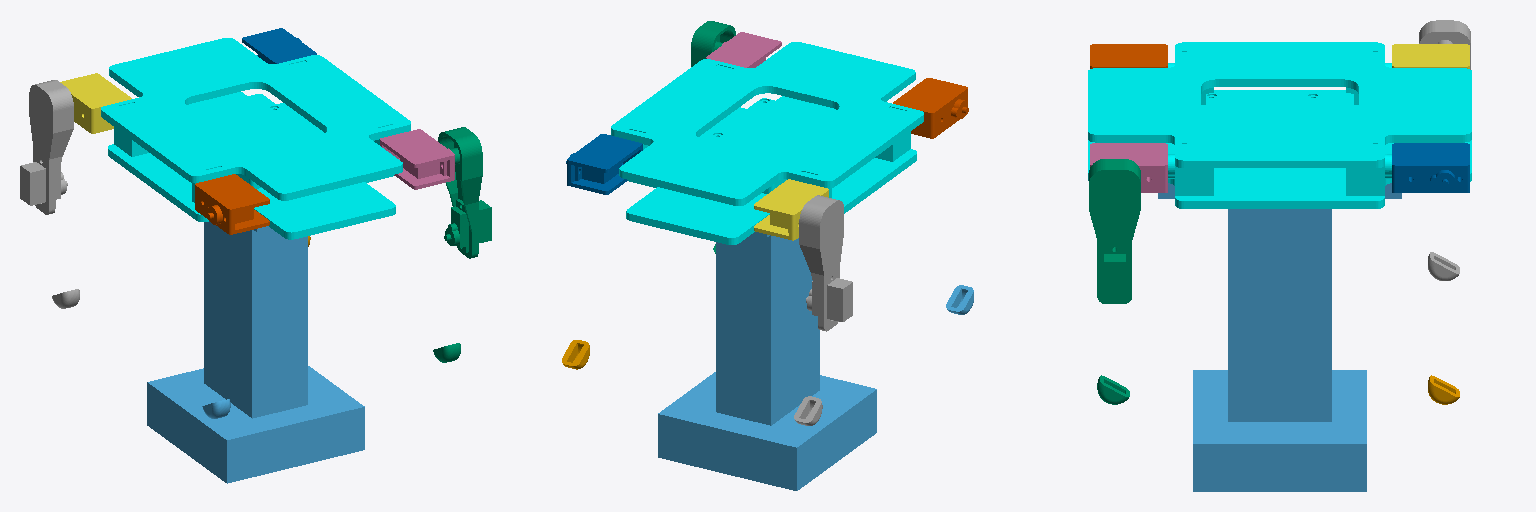
--- What the picture shows (computed from the rendered views, not written in the file) ---
3 views of the same robot in one strip: view 1: azimuth 30°, elevation 25°; view 2: azimuth 150°, elevation 25°; view 3: azimuth 270°, elevation 25° (orthographic).
Model dreamwalker_dummy with 23 links and 22 joints (12 revolute, 10 fixed), rooted at world, posed every joint at zero.
Visible links, largest first — view 1: main_body, support_element, link_femur1, link_femur4, link_shoulder3, link_shoulder4, link_shoulder1, link_shoulder2; view 2: main_body, support_element, link_femur1, link_shoulder2, link_shoulder3, link_shoulder1, link_shoulder4, link_femur4, link_foot1, link_foot3, link_foot2; view 3: main_body, support_element, link_femur4, link_shoulder2, link_shoulder4, link_shoulder1, link_shoulder3, link_femur1, link_foot4, link_foot2, link_foot1.
Boxes of the visible links, <box> form: main_body: <box>101,38,410,239</box>; support_element: <box>147,221,364,483</box>; link_femur1: <box>20,80,73,214</box>; link_femur4: <box>438,127,491,258</box>; link_shoulder3: <box>195,174,269,234</box>; link_shoulder4: <box>380,129,454,189</box>; link_shoulder1: <box>60,73,131,133</box>; link_shoulder2: <box>242,28,316,63</box>; main_body: <box>611,42,923,244</box>; support_element: <box>658,232,876,490</box>; link_femur1: <box>799,195,852,331</box>; link_shoulder2: <box>566,134,642,194</box>; link_shoulder3: <box>893,78,968,138</box>; link_shoulder1: <box>754,179,828,240</box>; link_shoulder4: <box>706,32,781,67</box>; link_femur4: <box>691,21,735,66</box>; link_foot1: <box>794,396,822,425</box>; link_foot3: <box>946,285,973,314</box>; link_foot2: <box>562,340,589,369</box>; main_body: <box>1088,42,1471,208</box>; support_element: <box>1158,183,1401,491</box>; link_femur4: <box>1089,159,1140,303</box>; link_shoulder2: <box>1392,143,1469,192</box>; link_shoulder4: <box>1090,143,1167,192</box>; link_shoulder1: <box>1392,44,1469,68</box>; link_shoulder3: <box>1090,44,1167,68</box>; link_femur1: <box>1419,20,1470,69</box>; link_foot4: <box>1097,375,1129,404</box>; link_foot2: <box>1428,375,1459,404</box>; link_foot1: <box>1428,252,1459,280</box>.
Size in the robot's own frame: 0.225 by 0.22 by 0.227 metres.
12 mesh visuals loaded from 15 distinct referenced files (7 binary STL, 2 Collada DAE); not drawn: 10 (reference not matched to a file when rendering).

robot.urdf — dreamwalker_dummy:
<?xml version="1.0" ?>
<robot name="dreamwalker_dummy" xmlns:xacro="http://www.ros.org/wiki/xacro">


	<!-- WORLD LINK -->
	<link name="world"/>

  	<joint name="fixed" type="fixed">
    	<parent link="world"/>
    	<child link="support_element"/>
  	</joint>

  	<!-- SUPPORT ELEMENT -->

	<link name="support_element">
		
		<inertial>
			<mass value="0.8"/>
			<origin xyz="0 0 0.082" rpy="0 0 0"/>
			<inertia ixx="0.002858" ixy="0" ixz="0" iyy="0.002726" iyz="0" izz="0.0006479"/>
		</inertial>

		<collision name="collision_base">
			<origin xyz="0 0 0.095" rpy="0 0 0"/>
			<geometry>
				<box size="0.06 0.14 0.19"/>
			</geometry>
		</collision>

		<visual>
			<origin xyz="0 0 0" rpy="0 0 0"/>
			<geometry>
				<mesh filename="package://dreamwalker_description/meshes/support_test_element.dae" scale="0.001 0.001 0.001" />
			</geometry>
		</visual>

	</link>

	<joint name="dummy_joint" type="fixed">
		
		<origin xyz="0 0 0.19" rpy="0 0 0"/>
		<parent link="support_element"/>
		<child link="main_body"/>
	</joint>


	<!--### ROBOT BODY ### -->

	<link name="main_body">
		
		<inertial>
			<mass value="0.388"/>
			<origin xyz="0 0 0.0155" rpy="0 0 0"/>
			<inertia ixx="0.001096" ixy="0" ixz="0" iyy="0.0006744" iyz="0" izz="0.001658"/>
		</inertial>

		<collision name="collision_base">
			<origin xyz="0 0 0" rpy="0 0 0"/>
			<geometry>
				<mesh filename="package://dreamwalker_description/meshes/main_body_collision.stl" scale="0.001 0.001 0.001" />
			</geometry>
		</collision>

		<visual>
			<origin xyz="0 0 0" rpy="0 0 0"/>
			<geometry>
				<mesh filename="package://dreamwalker_description/meshes/main_body.stl" scale="0.001 0.001 0.001" />
			</geometry>
			<material name="Cyan">
  		        <color rgba="0 1.0 1.0 1.0"/>
  			</material>
		</visual>

	</link>

	<!--### SHOULDERS ### -->

	<link name="link_shoulder1">
		
		<inertial>
			<mass value="0.0198"/>
			<origin xyz="-0.008165 0.022472 0" rpy="0 0 0"/>
			<inertia ixx="0.000003218011" ixy="0.000000199995" ixz="0" iyy="0.000001946476" iyz="0" izz="0.000004027678"/>
		</inertial>

		<collision name="collision_base">
			<origin xyz="-0.007 0.0225 0" rpy="0 0 0"/>
			<geometry>
				<box size="0.034 0.045 0.0175"/>
			</geometry>
		</collision>

		<visual>
			<origin xyz="0 0 0" rpy="0 0 0"/>
			<geometry>
				<mesh filename="package://dreamwalker_description/meshes/link_shoulder1.stl" scale="0.001 0.001 0.001" />
			</geometry>
		</visual>

	</link>


	<link name="link_shoulder2">
		
		<inertial>
			<mass value="0.0198"/>
			<origin xyz="0.008165 0.022472 0" rpy="0 0 0"/>
			<inertia ixx="0.000003218011" ixy="-0.000000199995" ixz="0" iyy="0.000001946476" iyz="0" izz="0.000004027678"/>
		</inertial>

		<collision name="collision_base">
			<origin xyz="0.007 0.0225 0" rpy="0 0 0"/>
			<geometry>
				<box size="0.034 0.045 0.0175"/>
			</geometry>
		</collision>

		<visual>
			<origin xyz="0 0 0" rpy="0 0 0"/>
			<geometry>
				<mesh filename="package://dreamwalker_description/meshes/link_shoulder2.stl" scale="0.001 0.001 0.001" />
			</geometry>
		</visual>

	</link>


	<link name="link_shoulder3">
		
		<inertial>
			<mass value="0.0198"/>
			<origin xyz="-0.008165 -0.022472 0" rpy="0 0 0"/>
			<inertia ixx="0.000003218011" ixy="-0.000000199995" ixz="0" iyy="0.000001946476" iyz="0" izz="0.000004027678"/>
		</inertial>

		<collision name="collision_base">
			<origin xyz="-0.007 -0.0225 0" rpy="0 0 0"/>
			<geometry>
				<box size="0.034 0.045 0.0175"/>
			</geometry>
		</collision>

		<visual>
			<origin xyz="0 0 0" rpy="0 0 0"/>
			<geometry>
				<mesh filename="package://dreamwalker_description/meshes/link_shoulder3.stl" scale="0.001 0.001 0.001" />
			</geometry>
		</visual>

	</link>


	<link name="link_shoulder4">
		
		<inertial>
			<mass value="0.0198"/>
			<origin xyz="0.008165 -0.022472 0" rpy="0 0 0"/>
			<inertia ixx="0.000003218011" ixy="0.000000199995" ixz="0" iyy="0.000001946476" iyz="0" izz="0.000004027678"/>
		</inertial>

		<collision name="collision_base">
			<origin xyz="0.007 -0.0225 0" rpy="0 0 0"/>
			<geometry>
				<box size="0.034 0.045 0.0175"/>
			</geometry>
		</collision>

		<visual>
			<origin xyz="0 0 0" rpy="0 0 0"/>
			<geometry>
				<mesh filename="package://dreamwalker_description/meshes/link_shoulder4.stl" scale="0.001 0.001 0.001" />
			</geometry>
		</visual>

	</link>

	<!--### FEMURS ### -->

	<link name="link_femur1">
		
		<inertial>
			<mass value="0.0218"/>
			<origin xyz="-0.012278 0 -0.031262" rpy="0 0 0"/>
			<inertia ixx="0.00001388" ixy="0" ixz="-0.000000908897" iyy="0.00001369" iyz="0" izz="0.000001695609"/>
		</inertial>

		<collision name="collision_base">
			<origin xyz="-0.00725 0 -0.0275" rpy="0 0 0"/>
			<geometry>
				<box size="0.014 0.02 0.085"/>
			</geometry>
		</collision>

		<visual>
			<origin xyz="0 0 0" rpy="0 0 0"/>
			<geometry>
				<mesh filename="package://dreamwalker_description/meshes/link_femur1.stl" scale="0.001 0.001 0.001" />
			</geometry>
			<material name="black"/>
		</visual>

	</link>


	<link name="link_femur2">
		
		<inertial>
			<mass value="0.0218"/>
			<origin xyz="0.012278 0 -0.031262" rpy="0 0 0"/>
			<inertia ixx="0.00001388" ixy="0" ixz="0.000000908897" iyy="0.00001369" iyz="0" izz="0.000001695609"/>
		</inertial>

		<collision name="collision_base">
			<origin xyz="0.00725 0 -0.0275" rpy="0 0 0"/>
			<geometry>
				<box size="0.014 0.02 0.085"/>
			</geometry>
		</collision>

		<visual>
			<origin xyz="0 0 0" rpy="0 0 0"/>
			<geometry>
				<mesh filename="package://dreamwalker_description/meshes/link_femur2.stl" scale="0.001 0.001 0.001" />
			</geometry>
			<material name="black"/>
		</visual>

	</link>


	<link name="link_femur3">
		
		<inertial>
			<mass value="0.0218"/>
			<origin xyz="-0.012278 0 -0.031262" rpy="0 0 0"/>
			<inertia ixx="0.00001388" ixy="0" ixz="-0.000000908897" iyy="0.00001369" iyz="0" izz="0.000001695609"/>
		</inertial>

		<collision name="collision_base">
			<origin xyz="-0.00725 0 -0.0275" rpy="0 0 0"/>
			<geometry>
				<box size="0.014 0.02 0.085"/>
			</geometry>
		</collision>

		<visual>
			<origin xyz="0 0 0" rpy="0 0 0"/>
			<geometry>
				<mesh filename="package://dreamwalker_description/meshes/link_femur3.stl" scale="0.001 0.001 0.001" />
			</geometry>
			<material name="black"/>
		</visual>

	</link>


	<link name="link_femur4">
		
		<inertial>
			<mass value="0.0218"/>
			<origin xyz="0.012278 0 -0.031262" rpy="0 0 0"/>
			<inertia ixx="0.00001388" ixy="0" ixz="0.000000908897" iyy="0.00001369" iyz="0" izz="0.000001695609"/>
		</inertial>

		<collision name="collision_base">
			<origin xyz="0.00725 0 -0.0275" rpy="0 0 0"/>
			<geometry>
				<box size="0.014 0.02 0.085"/>
			</geometry>
		</collision>

		<visual>
			<origin xyz="0 0 0" rpy="0 0 0"/>
			<geometry>
				<mesh filename="package://dreamwalker_description/meshes/link_femur4.stl" scale="0.001 0.001 0.001" />
			</geometry>
			<material name="black"/>
		</visual>

	</link>


	<link name="link_tibia1">
		
		<inertial>
			<mass value="0.00730"/>
			<origin xyz="-0.0025 0.0009 -0.032102" rpy="0 0 0"/>
			<inertia ixx="0.0000050464" ixy="0" ixz="0" iyy="0.000004893134" iyz="0.00000009901" izz="0.00000018368"/>
		</inertial>

		<collision name="collision_base">
			<origin xyz="-0.0025 0 -0.033" rpy="0 0 0"/>
			<geometry>
				<box size="0.005 0.015 0.085"/>
			</geometry>
		</collision>

		<visual>
			<origin xyz="0 0 0" rpy="0 0 0"/>
			<geometry>
				<mesh filename="package://dreamwalker_description/meshes/link_forearm1.stl" scale="0.001 0.001 0.001" />
			</geometry>
		</visual>

	</link>


	<link name="link_tibia2">
		
		<inertial>
			<mass value="0.00730"/>
			<origin xyz="0.0025 0.0009 -0.032102" rpy="0 0 0"/>
			<inertia ixx="0.0000050464" ixy="0" ixz="0" iyy="0.000004893134" iyz="0.00000009901" izz="0.00000018368"/>
		</inertial>

		<collision name="collision_base">
			<origin xyz="0.0025 0 -0.033" rpy="0 0 0"/>
			<geometry>
				<box size="0.005 0.015 0.085"/>
			</geometry>
		</collision>

		<visual>
			<origin xyz="0 0 0" rpy="0 0 0"/>
			<geometry>
				<mesh filename="package://dreamwalker_description/meshes/link_forearm2.stl" scale="0.001 0.001 0.001" />
			</geometry>
		</visual>

	</link>


	<link name="link_tibia3">
		
		<inertial>
			<mass value="0.00730"/>
			<origin xyz="-0.0025 0.0009 -0.032102" rpy="0 0 0"/>
			<inertia ixx="0.0000050464" ixy="0" ixz="0" iyy="0.000004893134" iyz="0.00000009901" izz="0.00000018368"/>
		</inertial>

		<collision name="collision_base">
			<origin xyz="-0.0025 0 -0.033" rpy="0 0 0"/>
			<geometry>
				<box size="0.005 0.015 0.085"/>
			</geometry>
		</collision>

		<visual>
			<origin xyz="0 0 0" rpy="0 0 0"/>
			<geometry>
				<mesh filename="package://dreamwalker_description/meshes/link_forearm1.stl" scale="0.001 0.001 0.001" />
			</geometry>
		</visual>

	</link>


	<link name="link_tibia4">
		
		<inertial>
			<mass value="0.00730"/>
			<origin xyz="0.0025 0.0009 -0.032102" rpy="0 0 0"/>
			<inertia ixx="0.0000050464" ixy="0" ixz="0" iyy="0.000004893134" iyz="0.00000009901" izz="0.00000018368"/>
		</inertial>

		<collision name="collision_base">
			<origin xyz="0.0025 0 -0.033" rpy="0 0 0"/>
			<geometry>
				<box size="0.005 0.015 0.085"/>
			</geometry>
		</collision>

		<visual>
			<origin xyz="0 0 0" rpy="0 0 0"/>
			<geometry>
				<mesh filename="package://dreamwalker_description/meshes/link_forearm2.stl" scale="0.001 0.001 0.001" />
			</geometry>
		</visual>

	</link>


	<link name="link_foot1">
		
		<inertial>
			<mass value="0.0013"/>
			<origin xyz="0 0 -0.004355" rpy="0 0 0"/>
			<inertia ixx="0.000000043185" ixy="0" ixz="0" iyy="0.000000029326" iyz="-0.000000074876" izz="0.000000054089"/>
		</inertial>

		<collision name="collision_base">
			<origin xyz="0 0 0" rpy="0 0 0"/>
			<geometry>
				<mesh filename="package://dreamwalker_description/meshes/link_foot.dae" scale="0.001 0.001 0.001" />
			</geometry>
			<!-- <contact_coefficient mu="100.0" mu2="100.0" k_p="10000.0"  k_d="100.0" /> -->
		</collision>

		<visual>
			<origin xyz="0 0 0" rpy="0 0 0"/>
			<geometry>
				<mesh filename="package://dreamwalker_description/meshes/link_foot.dae" scale="0.001 0.001 0.001" />
			</geometry>
			<material name="black"/>
		</visual>

	</link>


	<link name="link_foot2">
		
		<inertial>
			<mass value="0.0013"/>
			<origin xyz="0 0 -0.004355" rpy="0 0 0"/>
			<inertia ixx="0.000000043185" ixy="0" ixz="0" iyy="0.000000029326" iyz="-0.000000074876" izz="0.000000054089"/>
		</inertial>

		<collision name="collision_base">
			<origin xyz="0 0 0" rpy="0 0 0"/>
			<geometry>
				<mesh filename="package://dreamwalker_description/meshes/link_foot.dae" scale="0.001 0.001 0.001" />
			</geometry>
			<!-- <contact_coefficient mu="100.0" mu2="100.0" k_p="10000.0"  k_d="100.0" /> -->
		</collision>

		<visual>
			<origin xyz="0 0 0" rpy="0 0 0"/>
			<geometry>
				<mesh filename="package://dreamwalker_description/meshes/link_foot.dae" scale="0.001 0.001 0.001" />
			</geometry>
			<material name="black"/>
		</visual>

	</link>


	<link name="link_foot3">
		
		<inertial>
			<mass value="0.0013"/>
			<origin xyz="0 0 -0.004355" rpy="0 0 0"/>
			<inertia ixx="0.000000043185" ixy="0" ixz="0" iyy="0.000000029326" iyz="-0.000000074876" izz="0.000000054089"/>
		</inertial>

		<collision name="collision_base">
			<origin xyz="0 0 0" rpy="0 0 0"/>
			<geometry>
				<mesh filename="package://dreamwalker_description/meshes/link_foot.dae" scale="0.001 0.001 0.001" />
			</geometry>
			<!-- <contact_coefficient mu="100.0" mu2="100.0" k_p="10000.0"  k_d="100.0" /> -->
		</collision>

		<visual>
			<origin xyz="0 0 0" rpy="0 0 0"/>
			<geometry>
				<mesh filename="package://dreamwalker_description/meshes/link_foot.dae" scale="0.001 0.001 0.001" />
			</geometry>
			<material name="black"/>
		</visual>

	</link>


	<link name="link_foot4">
		
		<inertial>
			<mass value="0.0013"/>
			<origin xyz="0 0 -0.004355" rpy="0 0 0"/>
			<inertia ixx="0.000000043185" ixy="0" ixz="0" iyy="0.000000029326" iyz="-0.000000074876" izz="0.000000054089"/>
		</inertial>

		<collision name="collision_base">
			<origin xyz="0 0 0" rpy="0 0 0"/>
			<geometry>
				<mesh filename="package://dreamwalker_description/meshes/link_foot.dae" scale="0.001 0.001 0.001" />
			</geometry>
			<!-- <contact_coefficient mu="100.0" mu2="100.0" k_p="10000.0"  k_d="100.0" /> -->
		</collision>

		<visual>
			<origin xyz="0 0 0" rpy="0 0 0"/>
			<geometry>
				<mesh filename="package://dreamwalker_description/meshes/link_foot.dae" scale="0.001 0.001 0.001" />
			</geometry>
			<material name="black"/>
		</visual>

	</link>


	<!-- ### JOINTS ### -->


	<joint name="shoulder_joint1" type="revolute">
		
		<origin xyz="-0.062 0.064 0.022" rpy="0 0 0"/>
		<axis xyz="0 1 0"/>
		<parent link="main_body"/>
		<child link="link_shoulder1"/>
		<limit effort="30" velocity="5.0" lower="-0.5235987755983" upper="0.5235987755983" />
		<!-- <dynamics damping="0.0" friction="1.0"/> -->
	</joint>

	<joint name="shoulder_joint2" type="revolute">
		
		<origin xyz="0.062 0.064 0.022" rpy="0 0 0"/>
		<axis xyz="0 1 0"/>
		<parent link="main_body"/>
		<child link="link_shoulder2"/>
		<limit effort="30" velocity="5.0" lower="-0.5235987755983" upper="0.5235987755983" />
		<!-- <dynamics damping="0.0" friction="1.0"/> -->
	</joint>

	<joint name="shoulder_joint3" type="revolute">
		
		<origin xyz="-0.062 -0.064 0.022" rpy="0 0 0"/>
		<axis xyz="0 1 0"/>
		<parent link="main_body"/>
		<child link="link_shoulder3"/>
		<limit effort="30" velocity="5.0" lower="-0.5235987755983" upper="0.5235987755983" />
		<!--<dynamics damping="0.0" friction="1.0"/> -->
	</joint>

	<joint name="shoulder_joint4" type="revolute">
		
		<origin xyz="0.062 -0.064 0.022" rpy="0 0 0"/>
		<axis xyz="0 1 0"/>
		<parent link="main_body"/>
		<child link="link_shoulder4"/>
		<limit effort="30" velocity="1.0" lower="-0.52359" upper="0.52359" />
		<!--<dynamics damping="0.0" friction="1.0"/> -->
	</joint>

	<joint name="limb_joint1" type="revolute">
		
		<origin xyz="-0.024 0.0305 0" rpy="0 0 0"/>
		<axis xyz="1 0 0"/>
		<parent link="link_shoulder1"/>
		<child link="link_femur1"/>
		<limit effort="30" velocity="1.0" lower="-1.57079" upper="1.57079" />
		<!-- <dynamics damping="0.0" friction="1.0"/> -->
	</joint>

	<joint name="limb_joint2" type="revolute">
		
		<origin xyz="0.024 0.0305 0" rpy="0 0 0"/>
		<axis xyz="1 0 0"/>
		<parent link="link_shoulder2"/>
		<child link="link_femur2"/>
		<limit effort="30" velocity="1.0" lower="-1.57079" upper="1.57079" />
		<!-- <dynamics damping="0.0" friction="1.0"/> -->
	</joint>

	<joint name="limb_joint3" type="revolute">
		
		<origin xyz="-0.024 -0.0305 0" rpy="0 0 0"/>
		<axis xyz="1 0 0"/>
		<parent link="link_shoulder3"/>
		<child link="link_femur3"/>
		<limit effort="30" velocity="1.0" lower="-1.57079" upper="1.57079" />
		<!-- <dynamics damping="0.0" friction="1.0"/> -->
	</joint>

	<joint name="limb_joint4" type="revolute">
		
		<origin xyz="0.024 -0.0305 0" rpy="0 0 0"/>
		<axis xyz="1 0 0"/>
		<parent link="link_shoulder4"/>
		<child link="link_femur4"/>
		<limit effort="30" velocity="1.0" lower="-1.57079" upper="1.57079" />
		<!-- <dynamics damping="0.0" friction="1.0"/> -->
	</joint>

	<joint name="knee_joint1" type="revolute">
		
		<origin xyz="0.005 0 -0.055" rpy="0 0 0"/>
		<axis xyz="1 0 0"/>
		<parent link="link_femur1"/>
		<child link="link_tibia1"/>
		<limit effort="30" velocity="1.0" lower="-2.09439" upper="2.09439" />
		<!-- <dynamics damping="0.0" friction="1.0"/> -->
	</joint>

	<joint name="knee_joint2" type="revolute">
		
		<origin xyz="-0.005 0 -0.055" rpy="0 0 0"/>
		<axis xyz="1 0 0"/>
		<parent link="link_femur2"/>
		<child link="link_tibia2"/>
		<limit effort="30" velocity="1.0" lower="-2.09439" upper="2.09439" />
		<!-- <dynamics damping="0.0" friction="1.0"/> -->
	</joint>

	<joint name="knee_joint3" type="revolute">
		
		<origin xyz="0.005 0 -0.055" rpy="0 0 0"/>
		<axis xyz="1 0 0"/>
		<parent link="link_femur3"/>
		<child link="link_tibia3"/>
		<limit effort="30" velocity="1.0" lower="-2.09439" upper="2.09439" />
		<!-- <dynamics damping="0.0" friction="1.0"/> -->
	</joint>

	<joint name="knee_joint4" type="revolute">
		
		<origin xyz="-0.005 0 -0.055" rpy="0 0 0"/>
		<axis xyz="1 0 0"/>
		<parent link="link_femur4"/>
		<child link="link_tibia4"/>
		<limit effort="30" velocity="1.0" lower="-2.09439" upper="2.09439" />
		<!-- <dynamics damping="0.0" friction="1.0"/> -->
	</joint>

	<joint name="foot_joint1" type="fixed">
		
		<origin xyz="-0.0025 0 -0.075" rpy="-0.52359 0 0"/>
		<parent link="link_tibia1"/>
		<child link="link_foot1"/>
	</joint>

	<joint name="foot_joint2" type="fixed">
		
		<origin xyz="0.0025 0 -0.075" rpy="-0.52359 0 0"/>
		<parent link="link_tibia2"/>
		<child link="link_foot2"/>
	</joint>


	<joint name="foot_joint3" type="fixed">
		
		<origin xyz="-0.0025 0 -0.075" rpy="-0.52359 0 0"/>
		<parent link="link_tibia3"/>
		<child link="link_foot3"/>
	</joint>


	<joint name="foot_joint4" type="fixed">
		
		<origin xyz="0.0025 0 -0.075" rpy="-0.52359 0 0"/>
		<parent link="link_tibia4"/>
		<child link="link_foot4"/>
	</joint>



	<!-- ### SENSORS ### -->



	<link name="link_m_sensor">
		
		<inertial>
			<mass value="0.0102"/>
			<origin xyz="0 0.01591 0.011" rpy="0 0 0"/>
			<inertia ixx="0.000000566328" ixy="0" ixz="0" iyy="0.000002259218" iyz="-0.0000000944" izz="0.000002156532"/>
		</inertial>

		<collision name="collision_base">
			<origin xyz="0 0.015 0.01125" rpy="0 0 0"/>
			<geometry>
				<box size="0.050 0.0293 0.0225"/>
			</geometry>
		</collision>

		<visual>
			<origin xyz="0 0 0" rpy="0 0 0"/>
			<geometry>
				<mesh filename="package://dreamwalker_description/meshes/link_fb_sensor.stl" scale="0.001 0.001 0.001" />
			</geometry>
		</visual>

	</link>

	<joint name="m_sensor_joint" type="fixed">
		
		<origin xyz="0 0.095 0.005" rpy="0 0 0"/>
		<parent link="main_body"/>
		<child link="link_m_sensor"/>
	</joint>



	<link name="link_b_sensor">
		
		<inertial>
			<mass value="0.0102"/>
			<origin xyz="0 0.01591 0.011" rpy="0 0 0"/>
			<inertia ixx="0.000000566328" ixy="0" ixz="0" iyy="0.000002259218" iyz="-0.0000000944" izz="0.000002156532"/>
		</inertial>

		<collision name="collision_base">
			<origin xyz="0 0.015 0.01125" rpy="0 0 0"/>
			<geometry>
				<box size="0.050 0.0293 0.0225"/>
			</geometry>
		</collision>

		<visual>
			<origin xyz="0 0 0" rpy="0 0 0"/>
			<geometry>
				<mesh filename="package://dreamwalker_description/meshes/link_fb_sensor.stl" scale="0.001 0.001 0.001" />
			</geometry>
		</visual>

	</link>

	<joint name="b_sensor_joint" type="fixed">
		
		<origin xyz="0 -0.095 0.005" rpy="0 0 3.141592"/>
		<parent link="main_body"/>
		<child link="link_b_sensor"/>
	</joint>



	<link name="link_l_sensor">
		
		<inertial>
			<mass value="0.00983"/>
			<origin xyz="0 0.01336 0.02495" rpy="0 0 0"/>
			<inertia ixx="0.000002392374" ixy="0" ixz="0" iyy="0.000002455416" iyz="-0.000000093261" izz="0.000000406513"/>
		</inertial>

		<collision name="collision_base">
			<origin xyz="0 0.015 0.025" rpy="0 0 0"/>
			<geometry>
				<box size="0.020 0.015 0.052"/>
			</geometry>
		</collision>

		<visual>
			<origin xyz="0 0 0" rpy="0 0 0"/>
			<geometry>
				<mesh filename="package://dreamwalker_description/meshes/link_rl_sensor.stl" scale="0.001 0.001 0.001" />
			</geometry>
		</visual>

	</link>

	<joint name="l_sensor_joint" type="fixed">
		
		<origin xyz="-0.025 0.090 0.034" rpy="0 0 0.785398163"/>
		<parent link="main_body"/>
		<child link="link_l_sensor"/>
	</joint>



	<link name="link_r_sensor">
		
		<inertial>
			<mass value="0.00983"/>
			<origin xyz="0 0.01336 0.02495" rpy="0 0 0"/>
			<inertia ixx="0.000002392374" ixy="0" ixz="0" iyy="0.000002455416" iyz="-0.000000093261" izz="0.000000406513"/>
		</inertial>

		<collision name="collision_base">
			<origin xyz="0 0.015 0.025" rpy="0 0 0"/>
			<geometry>
				<box size="0.020 0.015 0.052"/>
			</geometry>
		</collision>

		<visual>
			<origin xyz="0 0 0" rpy="0 0 0"/>
			<geometry>
				<mesh filename="package://dreamwalker_description/meshes/link_rl_sensor.stl" scale="0.001 0.001 0.001" />
			</geometry>
		</visual>

	</link>

	<joint name="r_sensor_joint" type="fixed">
		
		<origin xyz="0.025 0.090 0.034" rpy="0 0 -0.785398163"/>
		<parent link="main_body"/>
		<child link="link_r_sensor"/>
	</joint>

	<!-- ### GAZEBO ### -->

	<gazebo>
  		<plugin name="gazebo_ros_control" filename="libgazebo_ros_control.so">
    		<robotNamespace>/dreamwalker</robotNamespace>
  		</plugin>
	</gazebo>
										
	<!-- ### TRANSMISSIONS -->

	<transmission name="tran_sh1">
    	
    	<type>transmission_interface/SimpleTransmission</type>
    	
    	<joint name="shoulder_joint1">
      		<hardwareInterface>hardware_interface/EffortJointInterface</hardwareInterface>
    	</joint>
    	
    	<actuator name="shoulder1">
      		<hardwareInterface>EffortJointInterface</hardwareInterface>
      		<mechanicalReduction>1</mechanicalReduction>
    	</actuator>

  	</transmission>


  	<transmission name="tran_sh2">
    	
    	<type>transmission_interface/SimpleTransmission</type>
    	
    	<joint name="shoulder_joint2">
      		<hardwareInterface>hardware_interface/EffortJointInterface</hardwareInterface>
    	</joint>
    	
    	<actuator name="shoulder2">
      		<hardwareInterface>EffortJointInterface</hardwareInterface>
      		<mechanicalReduction>1</mechanicalReduction>
    	</actuator>

  	</transmission>


  	<transmission name="tran_sh3">
    	
    	<type>transmission_interface/SimpleTransmission</type>
    	
    	<joint name="shoulder_joint3">
      		<hardwareInterface>hardware_interface/EffortJointInterface</hardwareInterface>
    	</joint>
    	
    	<actuator name="shoulder3">
      		<hardwareInterface>EffortJointInterface</hardwareInterface>
      		<mechanicalReduction>1</mechanicalReduction>
    	</actuator>

  	</transmission>


  	<transmission name="tran_sh4">
    	
    	<type>transmission_interface/SimpleTransmission</type>
    	
    	<joint name="shoulder_joint4">
      		<hardwareInterface>hardware_interface/EffortJointInterface</hardwareInterface>
    	</joint>
    	
    	<actuator name="shoulder4">
      		<hardwareInterface>EffortJointInterface</hardwareInterface>
      		<mechanicalReduction>1</mechanicalReduction>
    	</actuator>

  	</transmission>


  	<transmission name="tran_lim1">
    	
    	<type>transmission_interface/SimpleTransmission</type>
    	
    	<joint name="limb_joint1">
      		<hardwareInterface>hardware_interface/EffortJointInterface</hardwareInterface>
    	</joint>
    	
    	<actuator name="arm1">
      		<hardwareInterface>EffortJointInterface</hardwareInterface>
      		<mechanicalReduction>1</mechanicalReduction>
    	</actuator>

  	</transmission>


  	<transmission name="tran_lim2">
    	
    	<type>transmission_interface/SimpleTransmission</type>
    	
    	<joint name="limb_joint2">
      		<hardwareInterface>hardware_interface/EffortJointInterface</hardwareInterface>
    	</joint>
    	
    	<actuator name="arm2">
      		<hardwareInterface>EffortJointInterface</hardwareInterface>
      		<mechanicalReduction>1</mechanicalReduction>
    	</actuator>

  	</transmission>


  	<transmission name="tran_lim3">
    	
    	<type>transmission_interface/SimpleTransmission</type>
    	
    	<joint name="limb_joint3">
      		<hardwareInterface>hardware_interface/EffortJointInterface</hardwareInterface>
    	</joint>
    	
    	<actuator name="arm3">
      		<hardwareInterface>EffortJointInterface</hardwareInterface>
      		<mechanicalReduction>1</mechanicalReduction>
    	</actuator>

  	</transmission>


  	<transmission name="tran_lim4">
    	
    	<type>transmission_interface/SimpleTransmission</type>
    	
    	<joint name="limb_joint4">
      		<hardwareInterface>hardware_interface/EffortJointInterface</hardwareInterface>
    	</joint>
    	
    	<actuator name="arm4">
      		<hardwareInterface>EffortJointInterface</hardwareInterface>
      		<mechanicalReduction>1</mechanicalReduction>
    	</actuator>

  	</transmission>


  	<transmission name="tran_knee1">
    	
    	<type>transmission_interface/SimpleTransmission</type>
    	
    	<joint name="knee_joint1">
      		<hardwareInterface>hardware_interface/EffortJointInterface</hardwareInterface>
    	</joint>
    	
    	<actuator name="forearm1">
      		<hardwareInterface>EffortJointInterface</hardwareInterface>
      		<mechanicalReduction>1</mechanicalReduction>
    	</actuator>

  	</transmission>


  	<transmission name="tran_knee2">
    	
    	<type>transmission_interface/SimpleTransmission</type>
    	
    	<joint name="knee_joint2">
      		<hardwareInterface>hardware_interface/EffortJointInterface</hardwareInterface>
    	</joint>
    	
    	<actuator name="forearm2">
      		<hardwareInterface>EffortJointInterface</hardwareInterface>
      		<mechanicalReduction>1</mechanicalReduction>
    	</actuator>

  	</transmission>


  	<transmission name="tran_knee3">
    	
    	<type>transmission_interface/SimpleTransmission</type>
    	
    	<joint name="knee_joint3">
      		<hardwareInterface>hardware_interface/EffortJointInterface</hardwareInterface>
    	</joint>
    	
    	<actuator name="forearm3">
      		<hardwareInterface>EffortJointInterface</hardwareInterface>
      		<mechanicalReduction>1</mechanicalReduction>
    	</actuator>

  	</transmission>


  	<transmission name="tran_knee4">
    	
    	<type>transmission_interface/SimpleTransmission</type>
    	
    	<joint name="knee_joint4">
      		<hardwareInterface>hardware_interface/EffortJointInterface</hardwareInterface>
    	</joint>
    	
    	<actuator name="forearm4">
      		<hardwareInterface>EffortJointInterface</hardwareInterface>
      		<mechanicalReduction>1</mechanicalReduction>
    	</actuator>

  	</transmission>


	<!-- COLORS AND FRICTION PARAMETERS -->

	<gazebo reference="main_body">
    	<material>Gazebo/Grey</material>
  	</gazebo>

  	<gazebo reference="link_foot1">
      <!-- using sdf block syntax directly in extension -->
  		<mu1>1000</mu1>
  		<mu2>1000</mu2>
    	<material>Gazebo/Black</material>

  	</gazebo>

  	<gazebo reference="link_foot2">

  		<mu1>1000</mu1>
  		<mu2>1000</mu2>
    	<material>Gazebo/Black</material>

  	</gazebo>

  	<gazebo reference="link_foot3">

  		<mu1>1000</mu1>
  		<mu2>1000</mu2>
    	<material>Gazebo/Black</material>

  	</gazebo>

  	<gazebo reference="link_foot4">

  		<mu1>1000</mu1>
  		<mu2>1000</mu2>
    	<material>Gazebo/Black</material>
  	</gazebo>

</robot>
